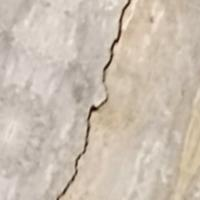crack: (56, 0, 140, 199)
